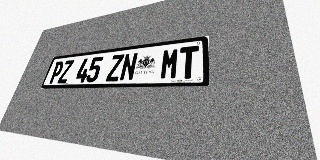4: (74, 58, 92, 83)
5: (85, 56, 104, 82)
M: (159, 47, 180, 80)
N: (119, 52, 138, 81)
P: (48, 61, 65, 84)
T: (178, 45, 199, 79)
Z: (105, 54, 124, 82), (57, 60, 74, 83)
